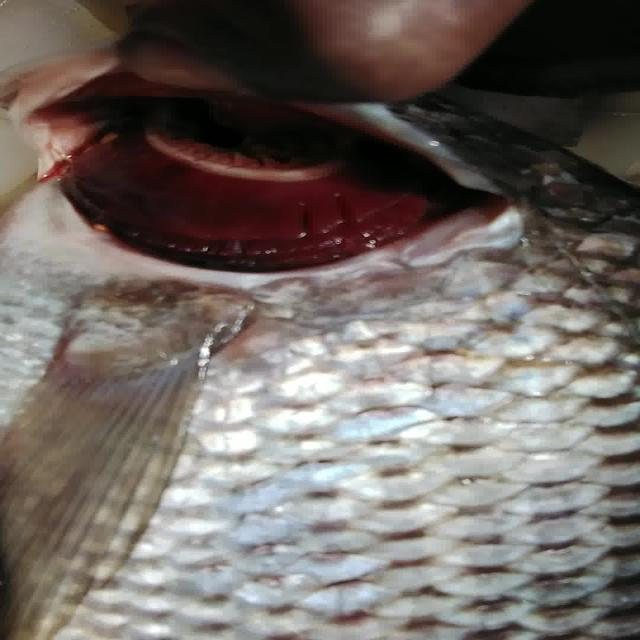Fresh: (20, 106, 531, 287)
